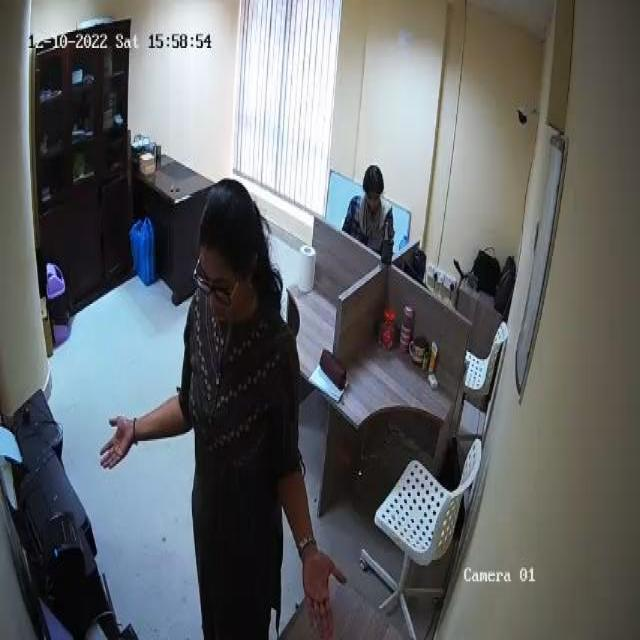bare_hand: (299, 544, 347, 640), (99, 412, 134, 473)
